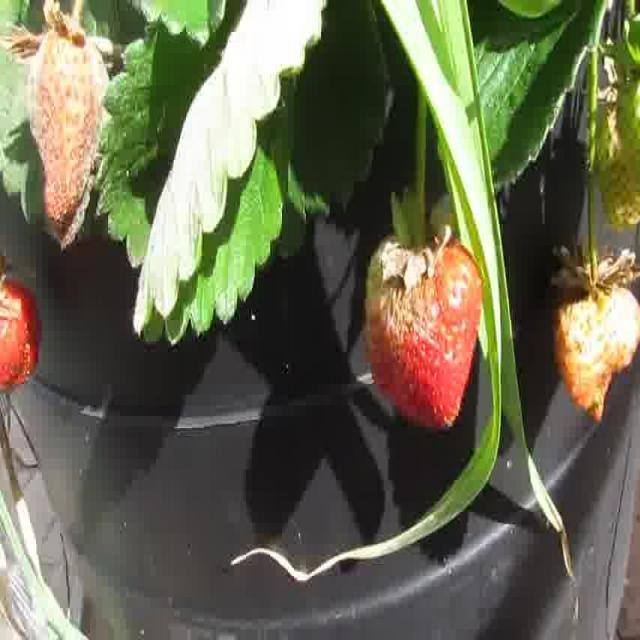Fruta sana: (553, 278, 640, 422), (599, 75, 640, 234), (0, 270, 42, 386), (619, 77, 640, 182)
Moho gris: (364, 238, 488, 440), (22, 18, 114, 245)
